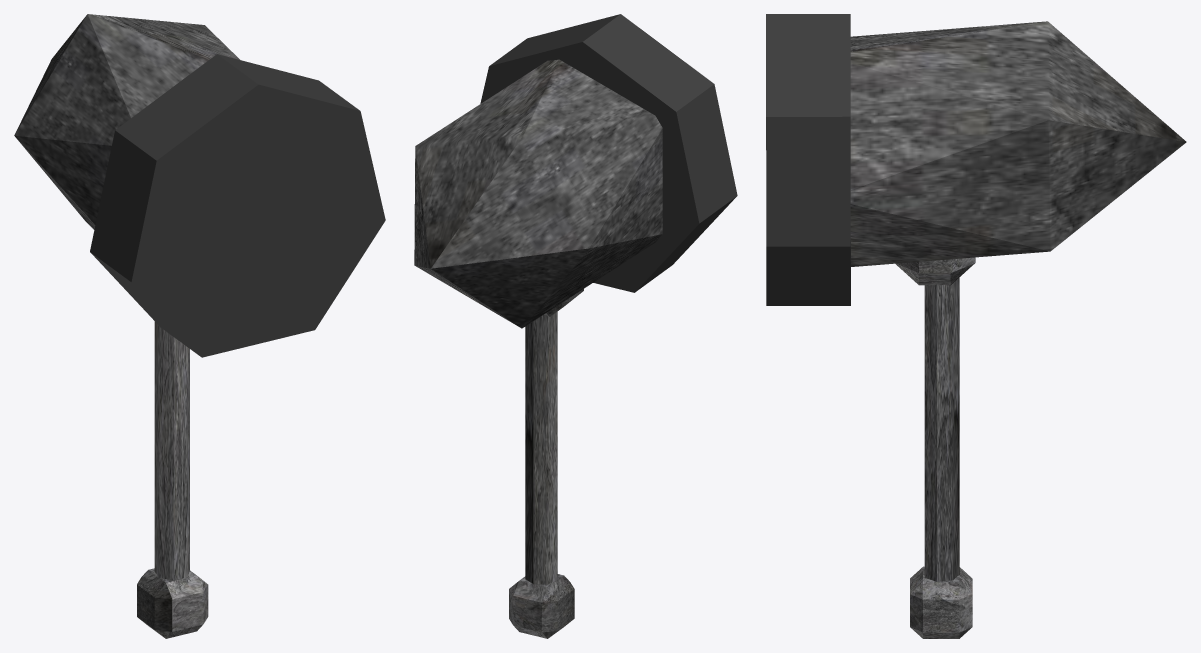
File: Caillou_attack_4_Boss_Roche.glb
3 renders of one model, left to right at view 1: azimuth 30°, elevation 25°; view 2: azimuth 150°, elevation 25°; view 3: azimuth 270°, elevation 25°, orthographic. The views are drawn at different scales.
Visible parts, largest first — view 1: Cylinder.001, Icosphere; view 2: Icosphere, Cylinder.001; view 3: Icosphere, Cylinder.001.
Part boxes in pixels (box(x1,y1,x2,y2)): Cylinder.001: box(90, 54, 385, 357); Icosphere: box(14, 14, 239, 638); Icosphere: box(414, 59, 662, 638); Cylinder.001: box(480, 14, 737, 292); Icosphere: box(850, 21, 1186, 638); Cylinder.001: box(766, 14, 850, 305).
Size of the model in its own units: 5.73 by 13.08 by 8.08.
Materials: 2 (1 with a texture image).
